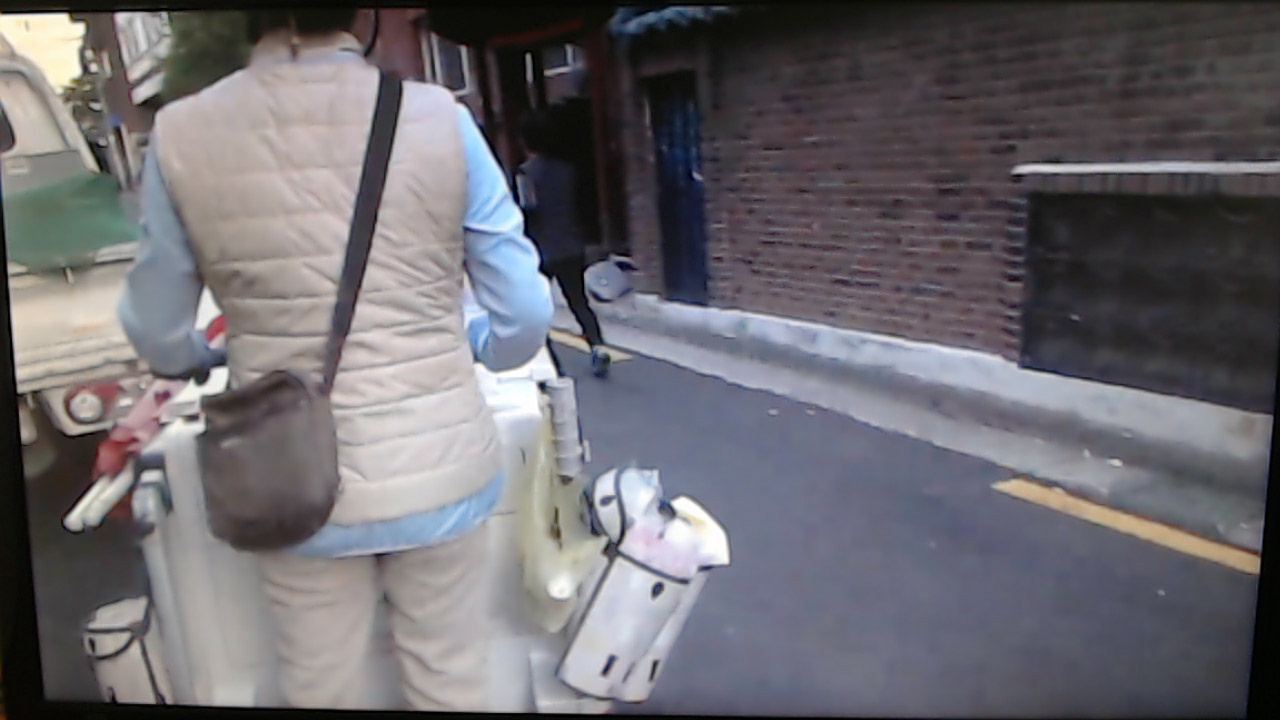Yakurut: (109, 17, 570, 716)
